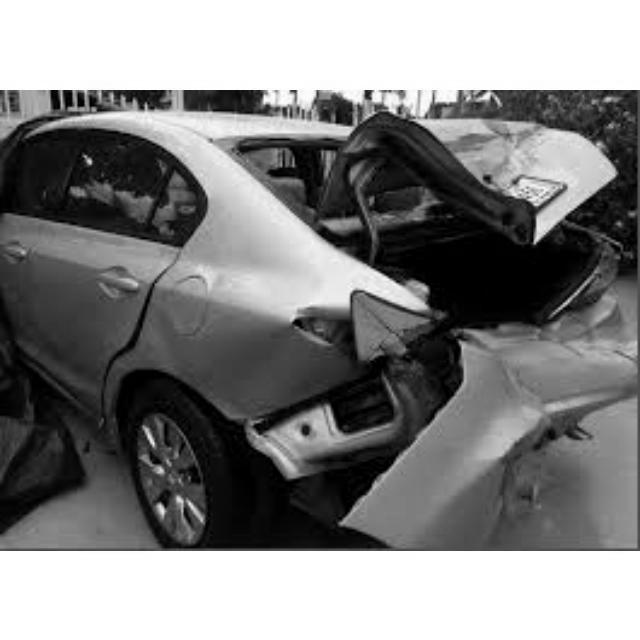Taillight-Damage: (360, 310, 465, 392)
boot-dent: (363, 139, 613, 357)
quaterpanel-dent: (205, 264, 358, 419)
rear-bumper-dent: (278, 378, 497, 526)
